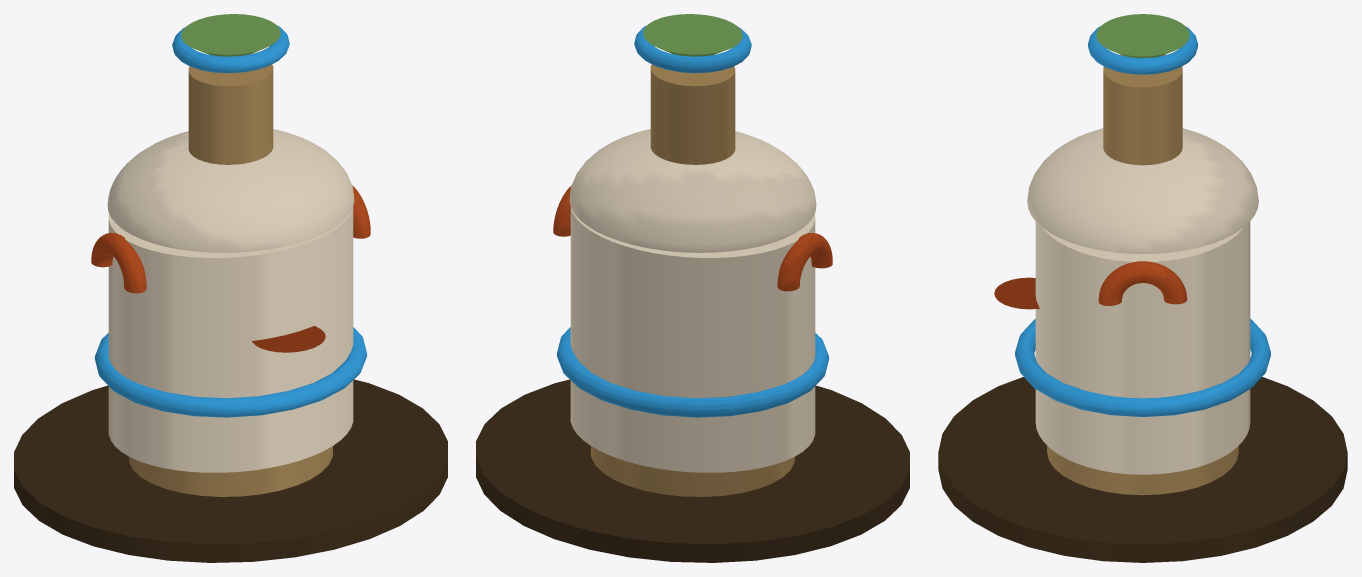
Rendered from 0874_钟表图鉴_千章铜漏.glb.
3 renders of one model, left to right at view 1: azimuth 30°, elevation 25°; view 2: azimuth 150°, elevation 25°; view 3: azimuth 270°, elevation 25°, orthographic.
Parts seen in each view (by area): view 1: card_0874; view 2: card_0874; view 3: card_0874.
Boxes of the visible parts, x1=… form: card_0874: x1=14, y1=14, x2=447, y2=562; card_0874: x1=476, y1=14, x2=909, y2=562; card_0874: x1=938, y1=14, x2=1347, y2=562.
Size of the model in its own units: 0.9135 by 1 by 0.852.
